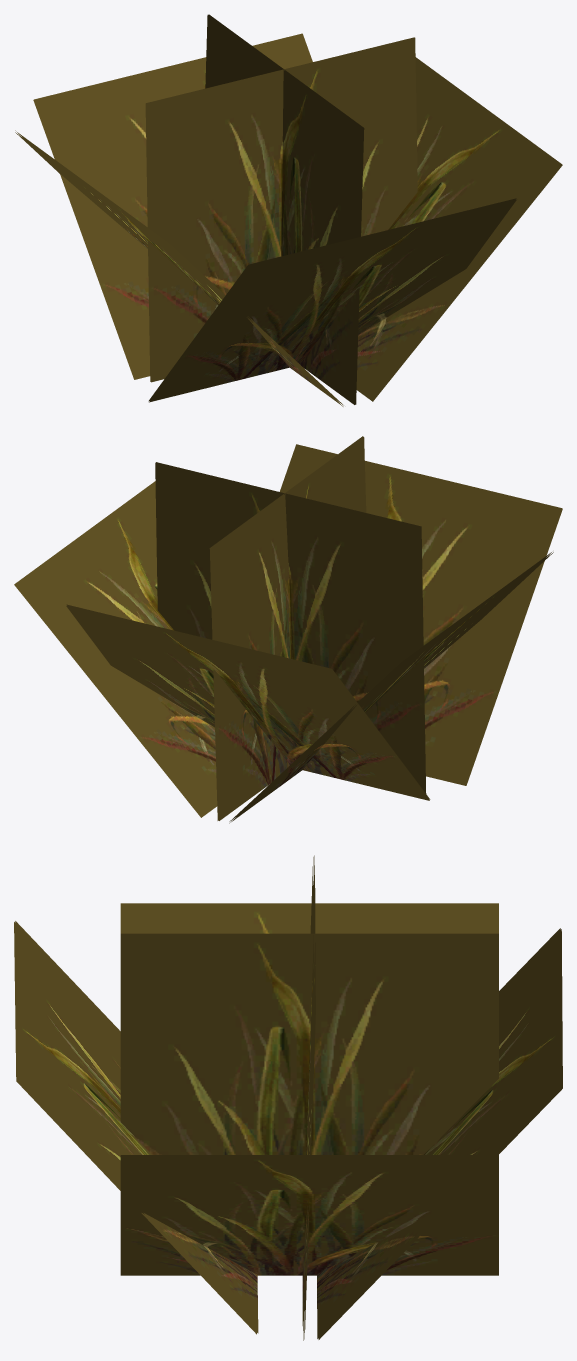
The model's file is guanmu_010.FBX.
3 views of the same model, one above another, from view 1: azimuth 30°, elevation 25°; view 2: azimuth 150°, elevation 25°; view 3: azimuth 270°, elevation 25° (orthographic). The views are drawn at different scales.
Parts seen in each view (by area): view 1: Plane191; view 2: Plane191; view 3: Plane191.
Boxes of the visible parts, x1,y1,x2,y2 form: Plane191: [15, 14, 562, 406]; Plane191: [14, 436, 562, 823]; Plane191: [14, 855, 562, 1340].
Bounding box in the file's own units: 1.78 × 1.2 × 1.77.
